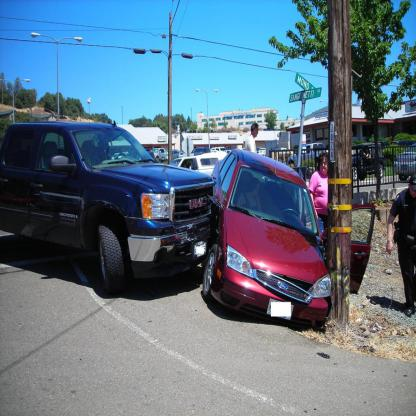face: (320, 157, 329, 174), (254, 184, 260, 196), (411, 187, 416, 199), (254, 128, 259, 137)
